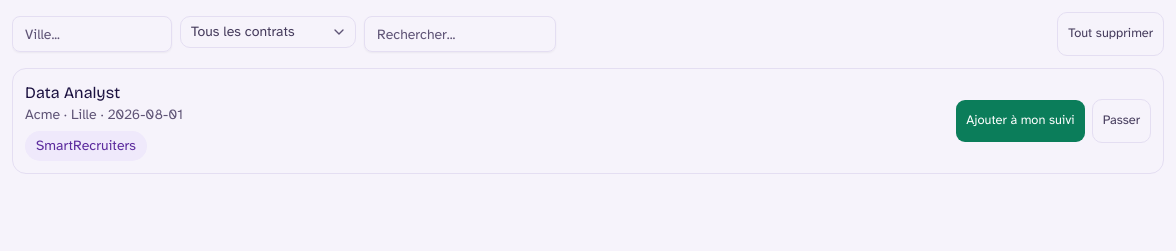
Test: ReviewQueueManager › adds an offer to the user's tracker and shows a success toast (JOB-149 vocabulary)
Click the button "Ajouter à mon suivi". click: (1020, 121)
box: x1=955 y1=99 x2=1086 y2=143
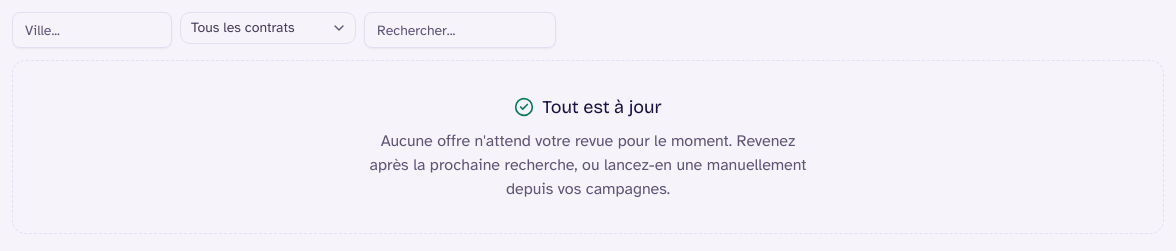
Now the text "Tout est à jour" is shown, box x1=514 y1=93 x2=662 y2=121
